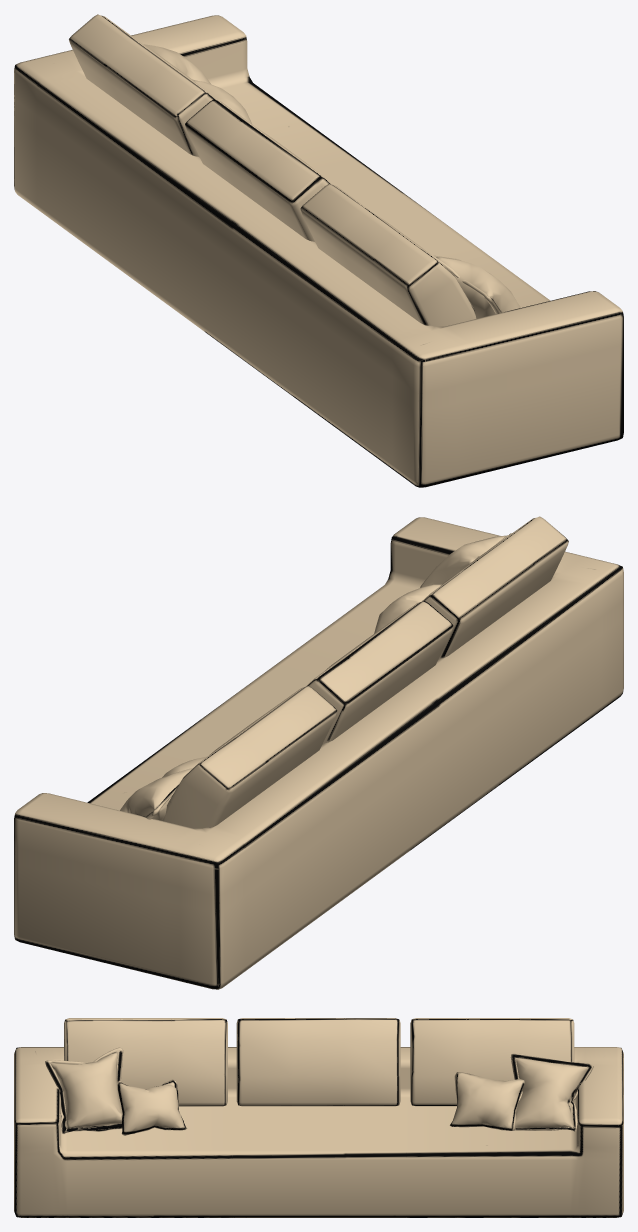
The model's file is couch4-19.glb.
3 views of the same model, one above another, from view 1: azimuth 30°, elevation 25°; view 2: azimuth 150°, elevation 25°; view 3: azimuth 270°, elevation 25° (orthographic). The views are drawn at different scales.
Parts seen in each view (by area): view 1: Couch; view 2: Couch; view 3: Couch.
Part boxes in pixels (x1,y1,x2,y2): Couch: (14, 14, 623, 487); Couch: (14, 516, 623, 989); Couch: (14, 1018, 623, 1217).
Bounding box in the file's own units: 4.91 × 4.33 × 16.58.
1 material, 1 textured.
